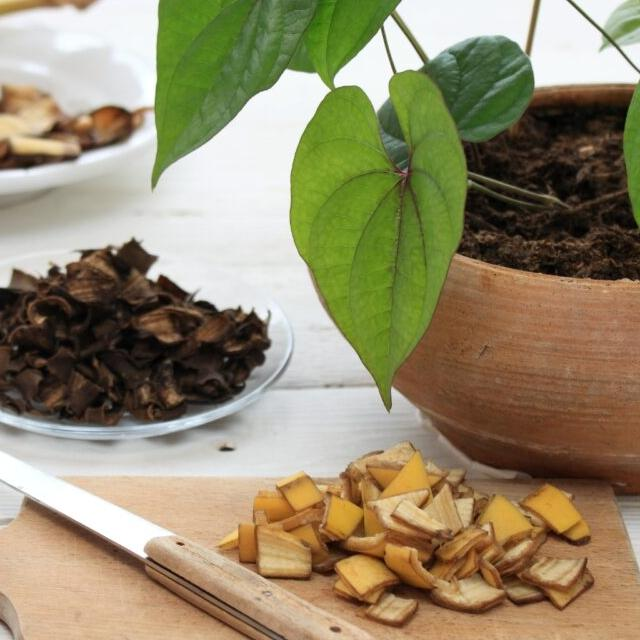food_waste: (274, 460, 584, 624), (22, 272, 209, 411), (0, 0, 143, 134), (521, 156, 626, 279), (0, 104, 85, 170)
